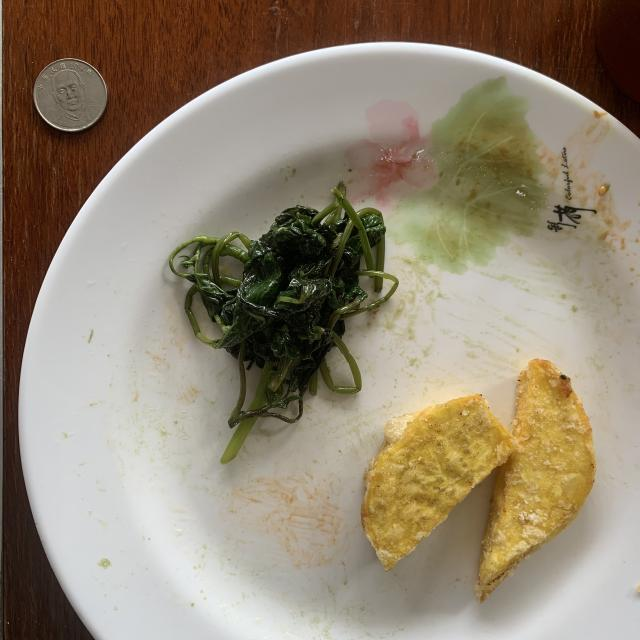coin: (34, 59, 108, 131)
sweet potato leaves: (169, 182, 399, 464)
